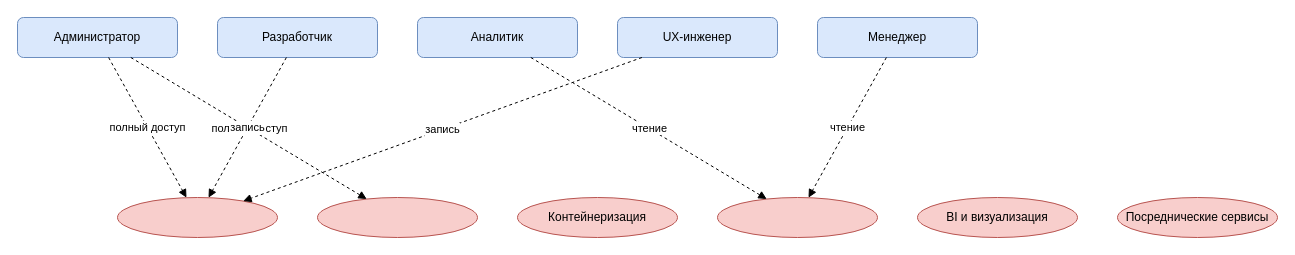
Some shapes in this 1295 by 255 pixel diagram are drawn without their labels. Each missing label, with the centre of its shape:
CI/CD: point 197,217
Мониторинг и аналитика: point 797,217
Хранилища и БД: point 397,217
